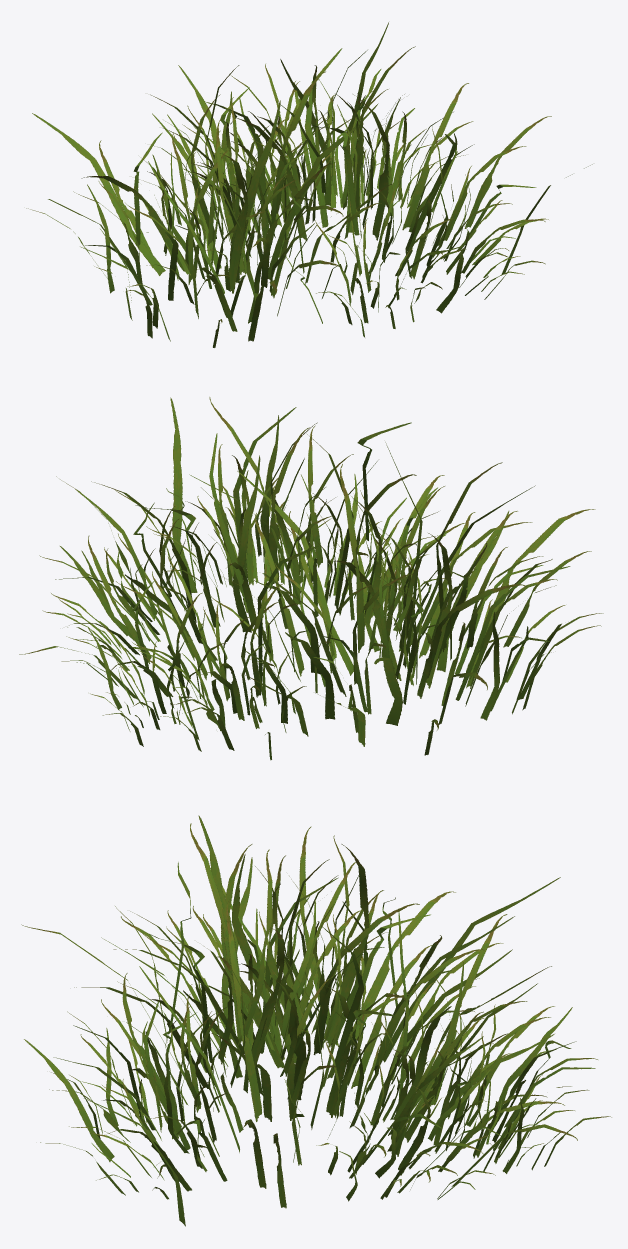
The model's file is Gras_small_017.fbx.
3 renders of one model, top to bottom at view 1: azimuth 30°, elevation 25°; view 2: azimuth 150°, elevation 25°; view 3: azimuth 270°, elevation 25°, orthographic. The views are drawn at different scales.
Parts seen in each view (by area): view 1: Gras_small.017; view 2: Gras_small.017; view 3: Gras_small.017.
Part boxes in pixels (<box>): Gras_small.017: <box>26,22,592,347</box>; Gras_small.017: <box>19,397,603,760</box>; Gras_small.017: <box>21,815,611,1226</box>.
Bounding box in the file's own units: 50.81 × 22.92 × 43.63.
Materials: 1 (1 with a texture image).
